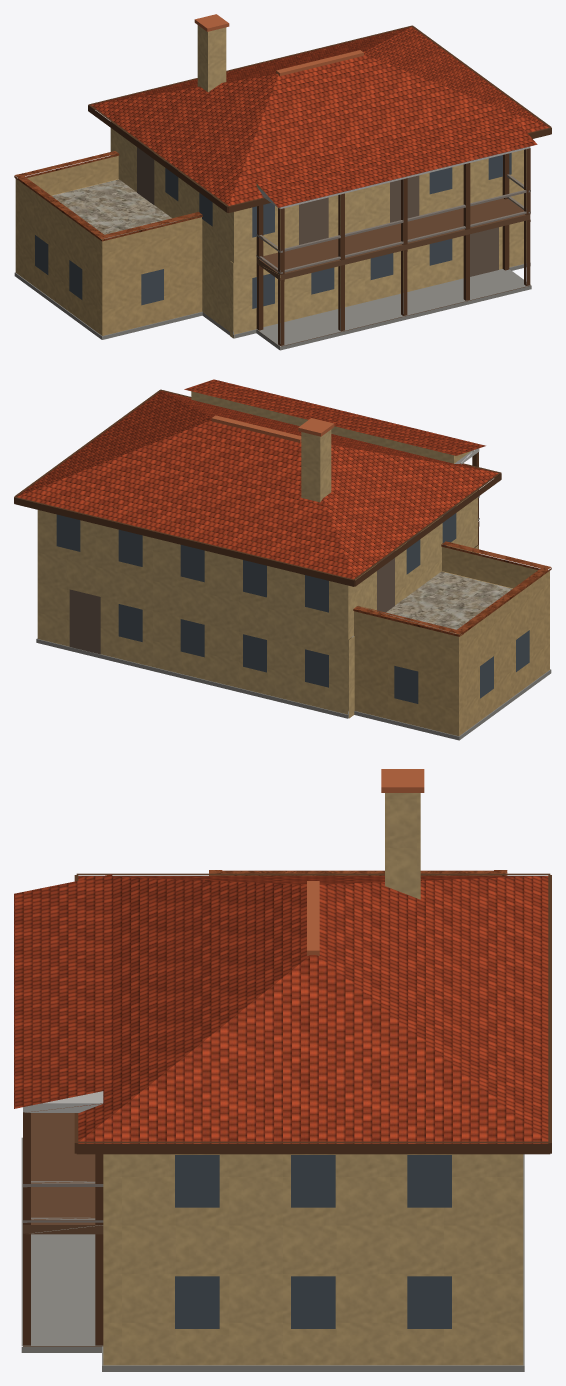
File: cr-hacienda.zfix-v22.lod1.glb
3 renders of one model, top to bottom at view 1: azimuth 30°, elevation 25°; view 2: azimuth 150°, elevation 25°; view 3: azimuth 270°, elevation 25°, orthographic. The views are drawn at different scales.
Visible parts, largest first — view 1: cr-hacienda; view 2: cr-hacienda; view 3: cr-hacienda.
Part boxes in pixels (x1=…): cr-hacienda: x1=14, y1=14, x2=551, y2=350; cr-hacienda: x1=14, y1=379, x2=551, y2=740; cr-hacienda: x1=14, y1=769, x2=551, y2=1371.
Size of the model in its own units: 18.09 by 9.95 by 12.04.
Materials: 4 (3 with a texture image).
